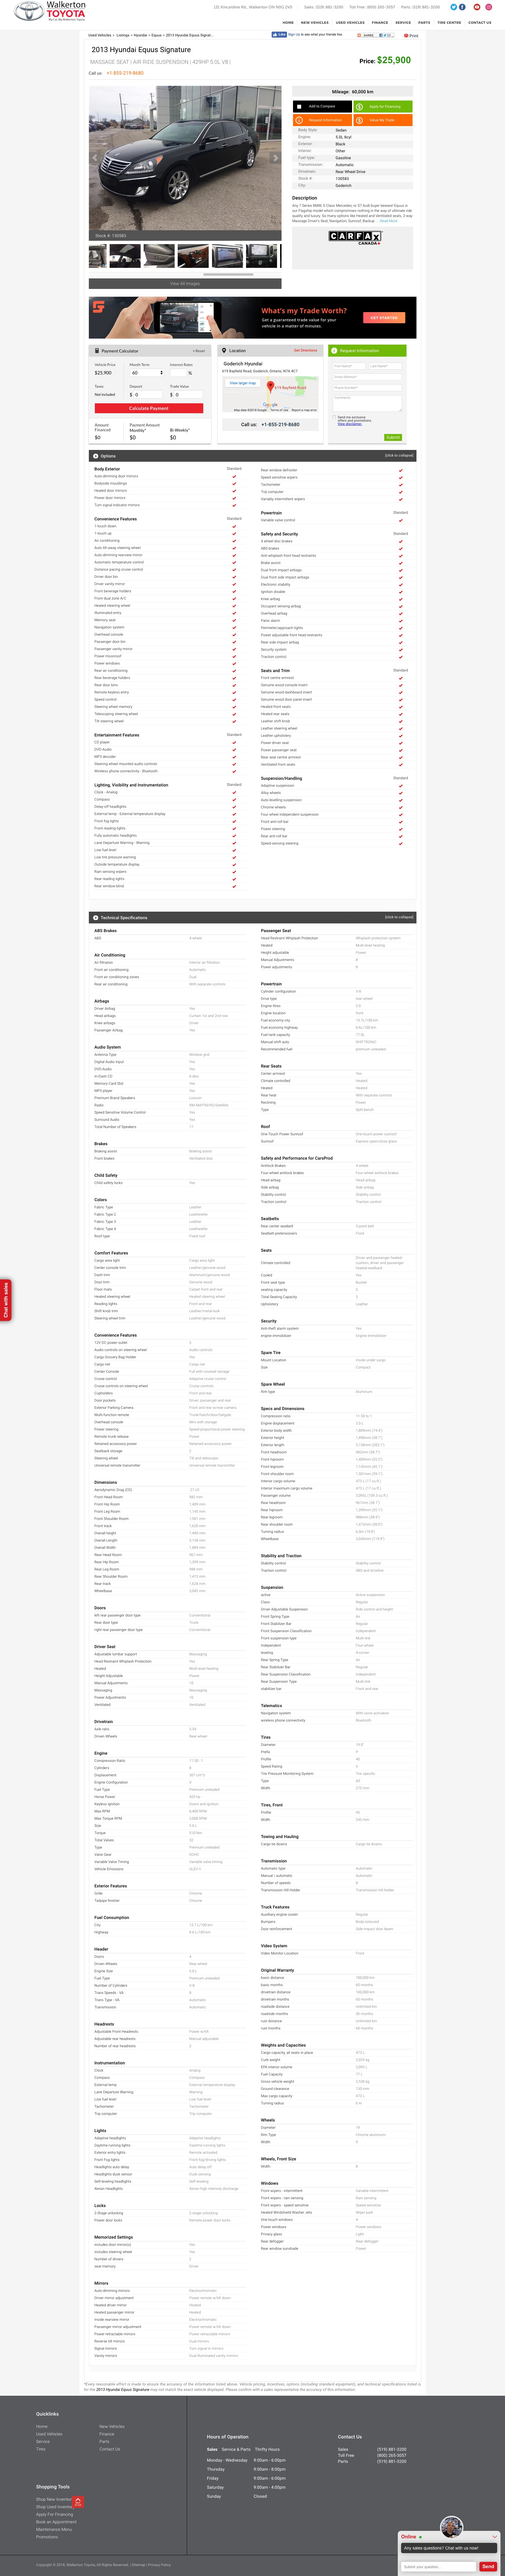car: (273, 154, 280, 163)
